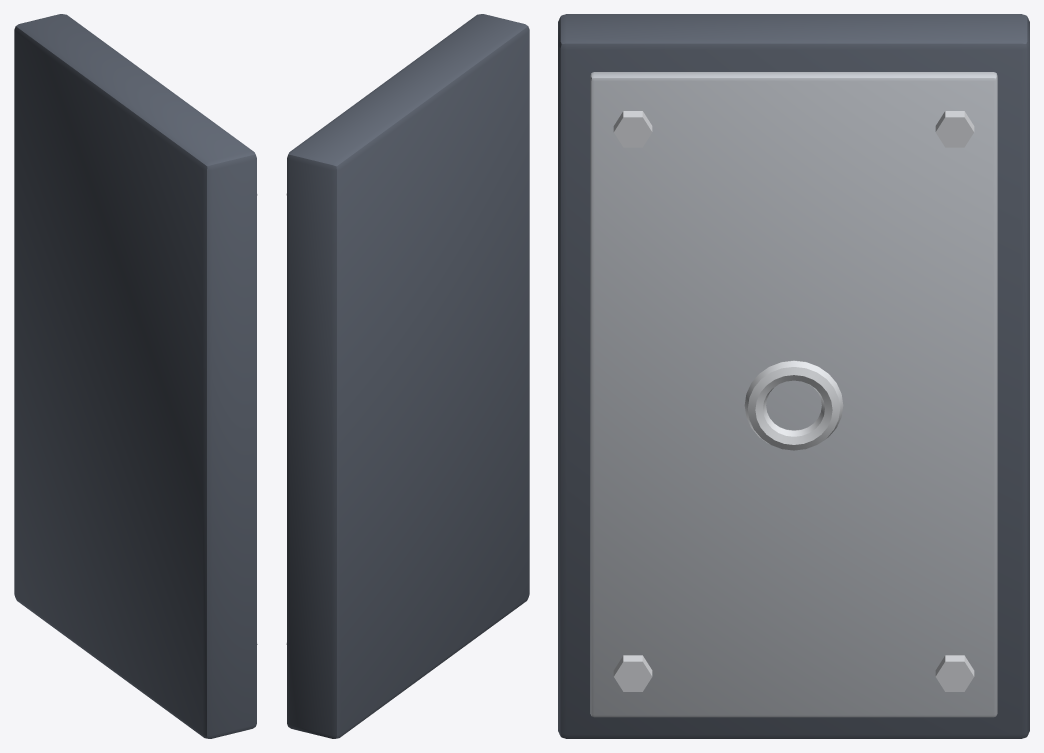
Rendered from wall_mount.glb.
3 views of the same model, side by side, from view 1: azimuth 30°, elevation 25°; view 2: azimuth 150°, elevation 25°; view 3: azimuth 270°, elevation 25° (orthographic). The views are drawn at different scales.
Visible parts, largest first — view 1: Cube; view 2: Cube; view 3: Cube.
Boxes of the visible parts, <box> form: Cube: <box>14,14,257,738</box>; Cube: <box>286,14,529,738</box>; Cube: <box>558,14,1029,738</box>.
Size of the model in its own units: 0.545 by 3.6 by 2.2.
